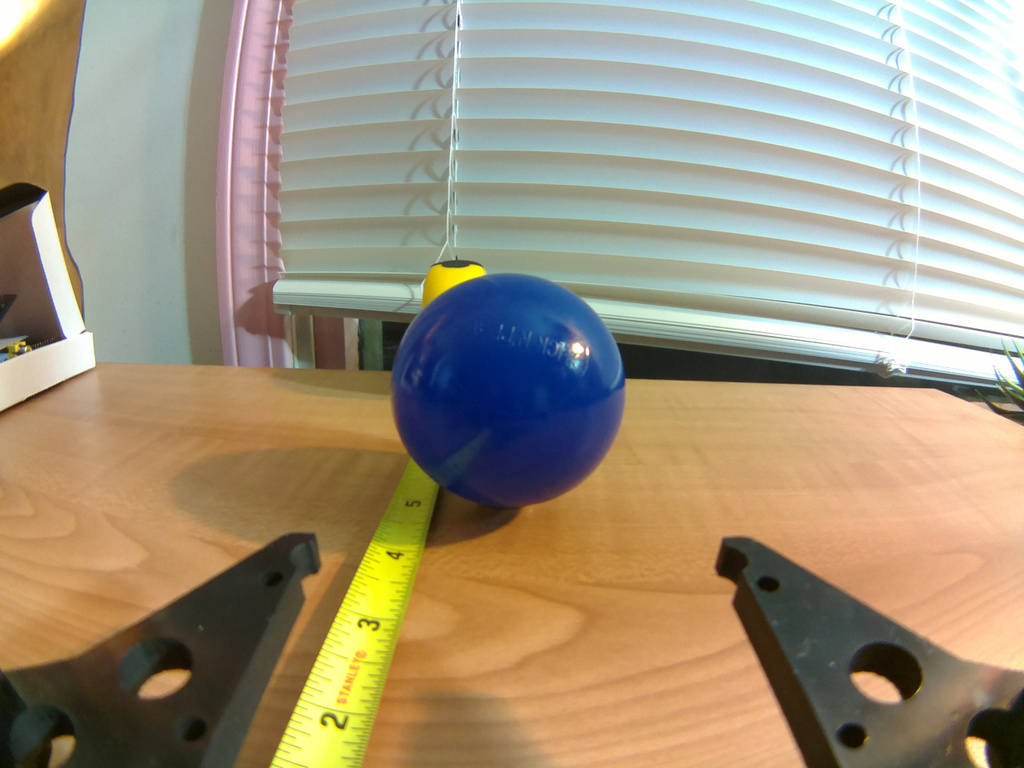ball: (387, 271, 628, 512)
